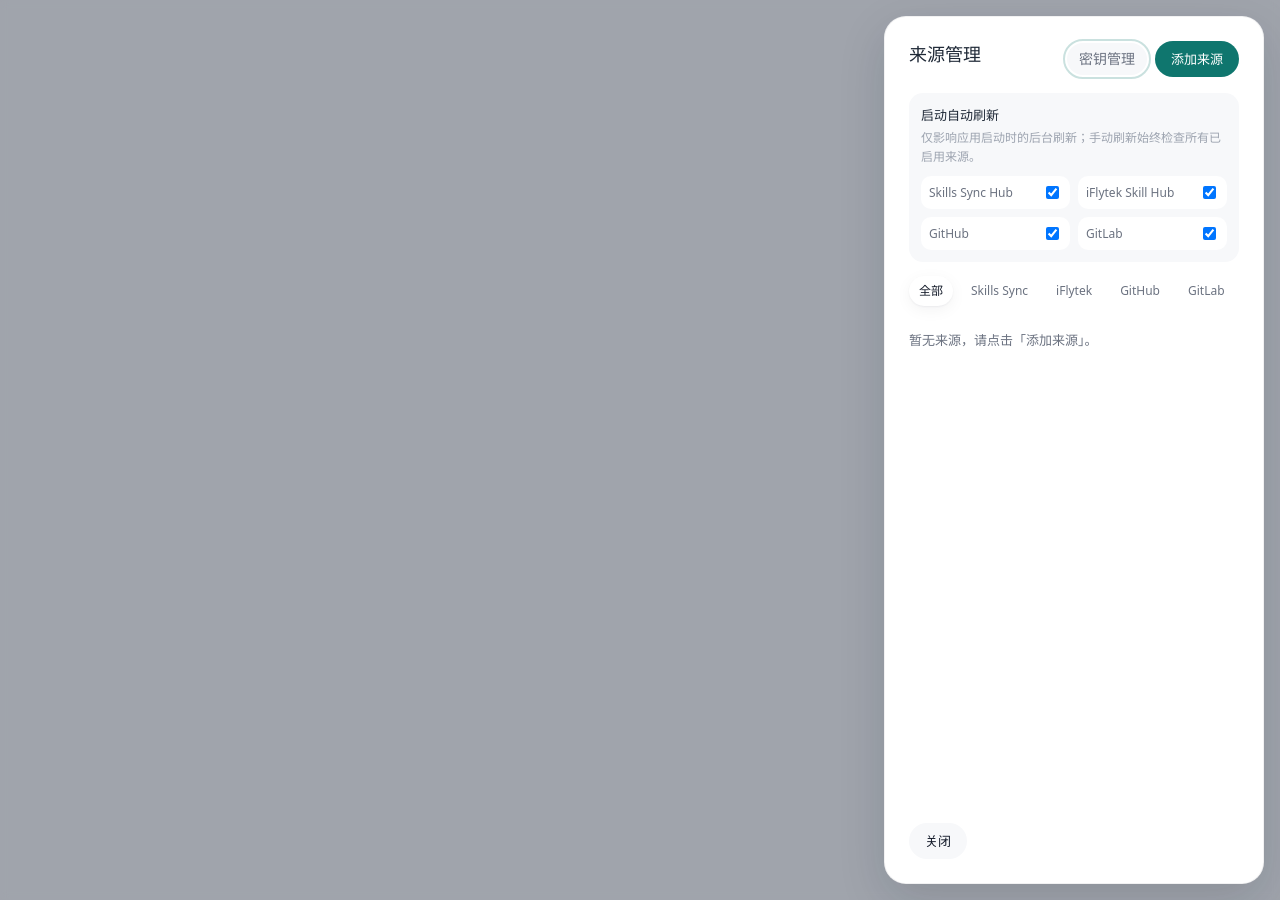
Test: SourceManageDrawer dual-track UI › shows iFlytek Skill Hub tab when opening add source modal
Click the button "添加来源": (1197, 59) left=1155, top=41, right=1239, bottom=77
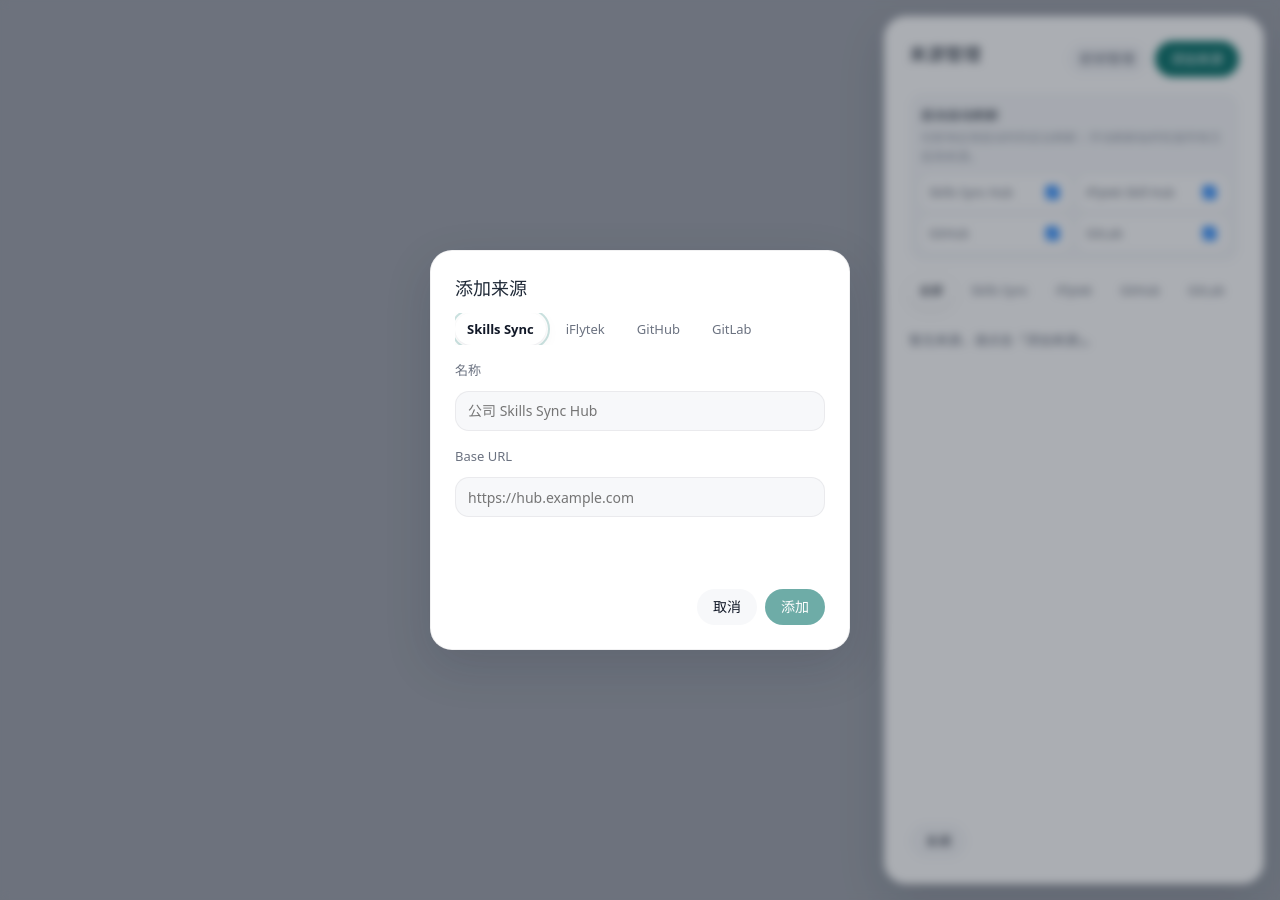
Expected: the tab "iFlytek" is shown, left=554, top=313, right=617, bottom=345
Expected: the tab "Skills Sync" is shown, left=455, top=313, right=546, bottom=345
